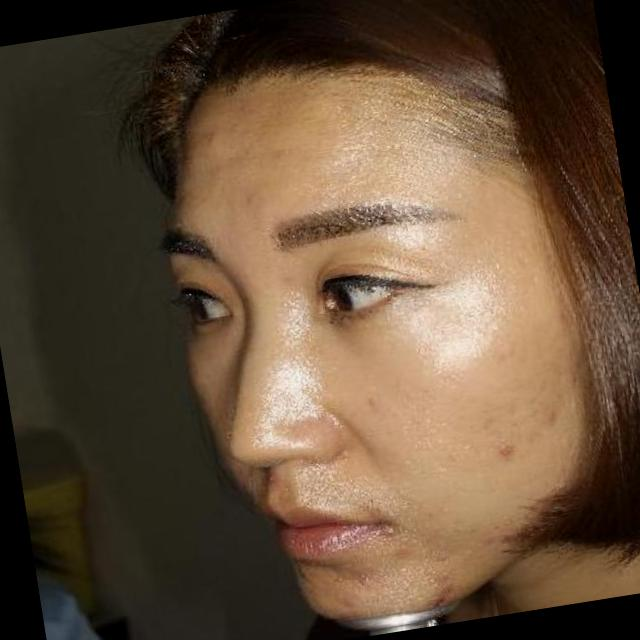acne: (534, 402, 566, 435)
nodules: (491, 430, 523, 470), (376, 518, 408, 542)
